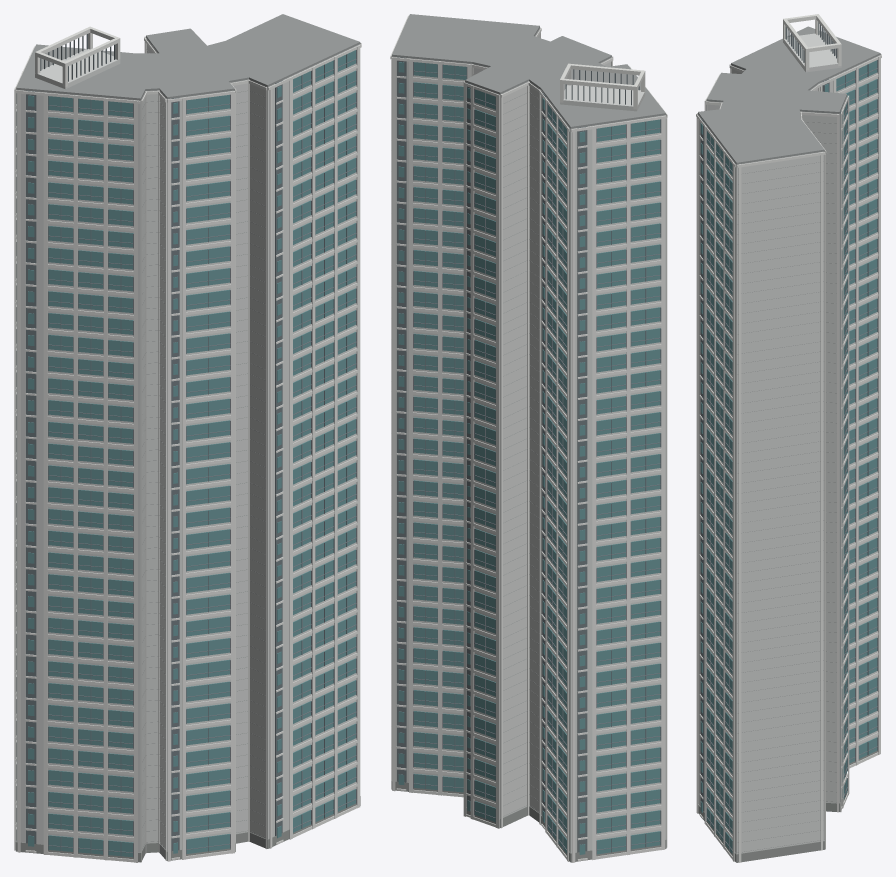
Rendered from bespoke-banpo-riche-102.glb.
The picture shows the model from 3 angles, left to right: view 1: azimuth 30°, elevation 25°; view 2: azimuth 150°, elevation 25°; view 3: azimuth 270°, elevation 25°; orthographic projection. The views are drawn at different scales.
Parts seen in each view (by area): view 1: Riche102_editable_Riche102_light_grey_solid_wall, Riche102_editable_Riche102_teal_rectangular_grouped_windows, Riche102_editable_Riche102_broad_white_facade_frames, Riche102_editable_Riche102_dark_horizontal_spandrels_and_mul, Riche102_editable_Riche102_modest_grey_flat_roof_caps, Riche102_editable_Riche102_dark_recessed_service_strip, Riche102_editable_Riche102_muted_ground_wall; view 2: Riche102_editable_Riche102_teal_rectangular_grouped_windows, Riche102_editable_Riche102_broad_white_facade_frames, Riche102_editable_Riche102_light_grey_solid_wall, Riche102_editable_Riche102_dark_horizontal_spandrels_and_mul, Riche102_editable_Riche102_dark_recessed_service_strip, Riche102_editable_Riche102_modest_grey_flat_roof_caps, Riche102_editable_Riche102_muted_ground_wall; view 3: Riche102_editable_Riche102_light_grey_solid_wall, Riche102_editable_Riche102_broad_white_facade_frames, Riche102_editable_Riche102_teal_rectangular_grouped_windows, Riche102_editable_Riche102_modest_grey_flat_roof_caps, Riche102_editable_Riche102_dark_horizontal_spandrels_and_mul, Riche102_editable_Riche102_dark_recessed_service_strip, Riche102_editable_Riche102_muted_ground_wall.
Part boxes in pixels (box(x1,y1,x2,y2)): Riche102_editable_Riche102_light_grey_solid_wall: box(16, 38, 360, 852); Riche102_editable_Riche102_teal_rectangular_grouped_windows: box(28, 50, 355, 857); Riche102_editable_Riche102_broad_white_facade_frames: box(14, 26, 361, 862); Riche102_editable_Riche102_dark_horizontal_spandrels_and_mul: box(16, 49, 356, 857); Riche102_editable_Riche102_modest_grey_flat_roof_caps: box(16, 14, 360, 848); Riche102_editable_Riche102_dark_recessed_service_strip: box(26, 34, 282, 851); Riche102_editable_Riche102_muted_ground_wall: box(15, 796, 360, 862); Riche102_editable_Riche102_teal_rectangular_grouped_windows: box(398, 62, 660, 854); Riche102_editable_Riche102_broad_white_facade_frames: box(390, 15, 667, 862); Riche102_editable_Riche102_light_grey_solid_wall: box(392, 28, 665, 853); Riche102_editable_Riche102_dark_horizontal_spandrels_and_mul: box(413, 62, 661, 854); Riche102_editable_Riche102_dark_recessed_service_strip: box(397, 57, 639, 852); Riche102_editable_Riche102_modest_grey_flat_roof_caps: box(391, 14, 665, 816); Riche102_editable_Riche102_muted_ground_wall: box(391, 780, 666, 862); Riche102_editable_Riche102_light_grey_solid_wall: box(698, 33, 880, 853); Riche102_editable_Riche102_broad_white_facade_frames: box(696, 14, 881, 862); Riche102_editable_Riche102_teal_rectangular_grouped_windows: box(700, 60, 877, 853); Riche102_editable_Riche102_modest_grey_flat_roof_caps: box(698, 26, 880, 852); Riche102_editable_Riche102_dark_horizontal_spandrels_and_mul: box(706, 60, 878, 850); Riche102_editable_Riche102_dark_recessed_service_strip: box(700, 22, 841, 811); Riche102_editable_Riche102_muted_ground_wall: box(698, 750, 877, 862).
Size of the model in its own units: 41.15 by 101 by 23.45.
